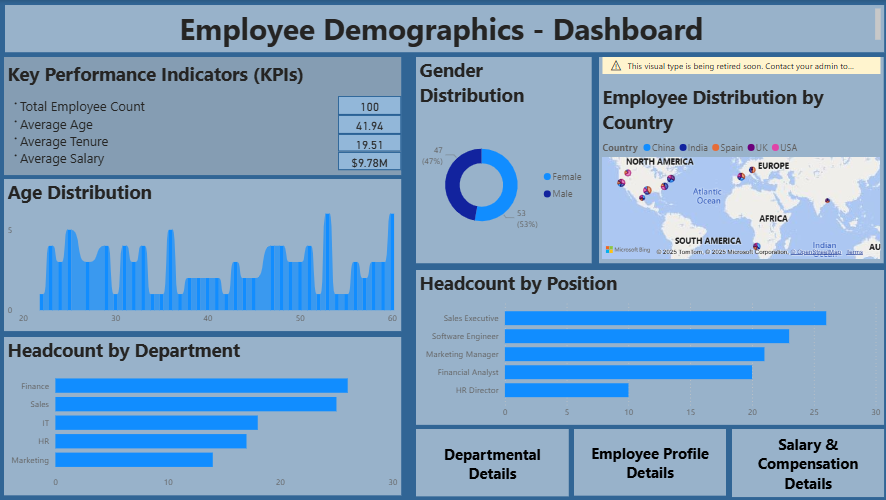

This screenshot's page, from the dashboard's own definition file:
{"tool":"powerbi","page":{"name":"Summery","canvas":[1280,720],"ordinal":0},"visuals":[{"type":"textbox","box":[7.3,81.9,571.7,169.9],"z":0,"group":"g1"},{"type":"actionButton","title":"Detail","box":[828,617.8,218.9,96.5],"z":0},{"type":"textbox","box":[8.6,7.2,1265.8,67.7],"z":1000},{"type":"card","fields":{"Values":["CountNonNull(Sheet1.Name)"]},"box":[488.2,137.4,90.9,27.3],"z":1000,"group":"g1"},{"type":"group","id":"g1","title":"Group 1","box":[7.3,81.9,571.8,169.9],"z":2000},{"type":"card","fields":{"Values":["Avg(Sheet1.Age)"]},"box":[488.2,165.5,90.9,27.3],"z":2000,"group":"g1"},{"type":"donutChart","title":"Gender Distribution","fields":{"Category":["Sheet1.Gender"],"Y":["CountNonNull(Sheet1.Name)"]},"box":[600.5,82.1,253.4,296.6],"z":3000},{"type":"card","fields":{"Values":["Avg(Sheet1.Years of Service)"]},"box":[488.2,192.8,90.9,25.5],"z":3000,"group":"g1"},{"type":"card","fields":{"Values":["Sum(Sheet1.Salary)"]},"box":[488.2,218.3,90.9,26.4],"z":4000,"group":"g1"},{"type":"ribbonChart","title":"Age Distribution","fields":{"Category":["Sheet1.Age"],"Y":["CountNonNull(Sheet1.Name)"]},"box":[7.2,257.8,571.7,218.9],"z":4000},{"type":"map","title":"Employee Distribution by Country","fields":{"Series":["Sheet1.Country"],"Category":["Sheet1.Name"],"Size":["CountNonNull(Sheet1.Name)"]},"box":[864,82.1,410.4,296.6],"z":5000},{"type":"barChart","title":"Headcount by Department","fields":{"Category":["Sheet1.Department"],"Y":["CountNonNull(Sheet1.Name)"]},"box":[7.2,485.3,571.7,227.5],"z":6000},{"type":"barChart","title":"Headcount by Position","fields":{"Category":["Sheet1.Position"],"Y":["CountNonNull(Sheet1.Name)"]},"box":[600.5,388.8,673.9,223.2],"z":7000},{"type":"actionButton","title":"Detail","box":[600.9,618.2,220,97.3],"z":8000},{"type":"actionButton","title":"Detail","box":[1055.5,617.3,219.1,98.2],"z":9000}]}

Visuals, with their boxes in screenshot pixels (x1, y1, x2, y2), scaled from the page's 1280x720 canvas onto the 886x500 screenshot:
textbox: box(5, 57, 401, 175)
"Detail" actionButton: box(573, 429, 725, 496)
textbox: box(6, 5, 882, 52)
card - CountNonNull(Sheet1.Name): box(338, 95, 401, 114)
"Group 1" group: box(5, 57, 401, 175)
card - Avg(Sheet1.Age): box(338, 115, 401, 134)
"Gender Distribution" donutChart: box(416, 57, 591, 263)
card - Avg(Sheet1.Years of Service): box(338, 134, 401, 152)
card - Sum(Sheet1.Salary): box(338, 152, 401, 170)
"Age Distribution" ribbonChart: box(5, 179, 401, 331)
"Employee Distribution by Country" map: box(598, 57, 882, 263)
"Headcount by Department" barChart: box(5, 337, 401, 495)
"Headcount by Position" barChart: box(416, 270, 882, 425)
"Detail" actionButton: box(416, 429, 568, 497)
"Detail" actionButton: box(731, 429, 882, 497)
